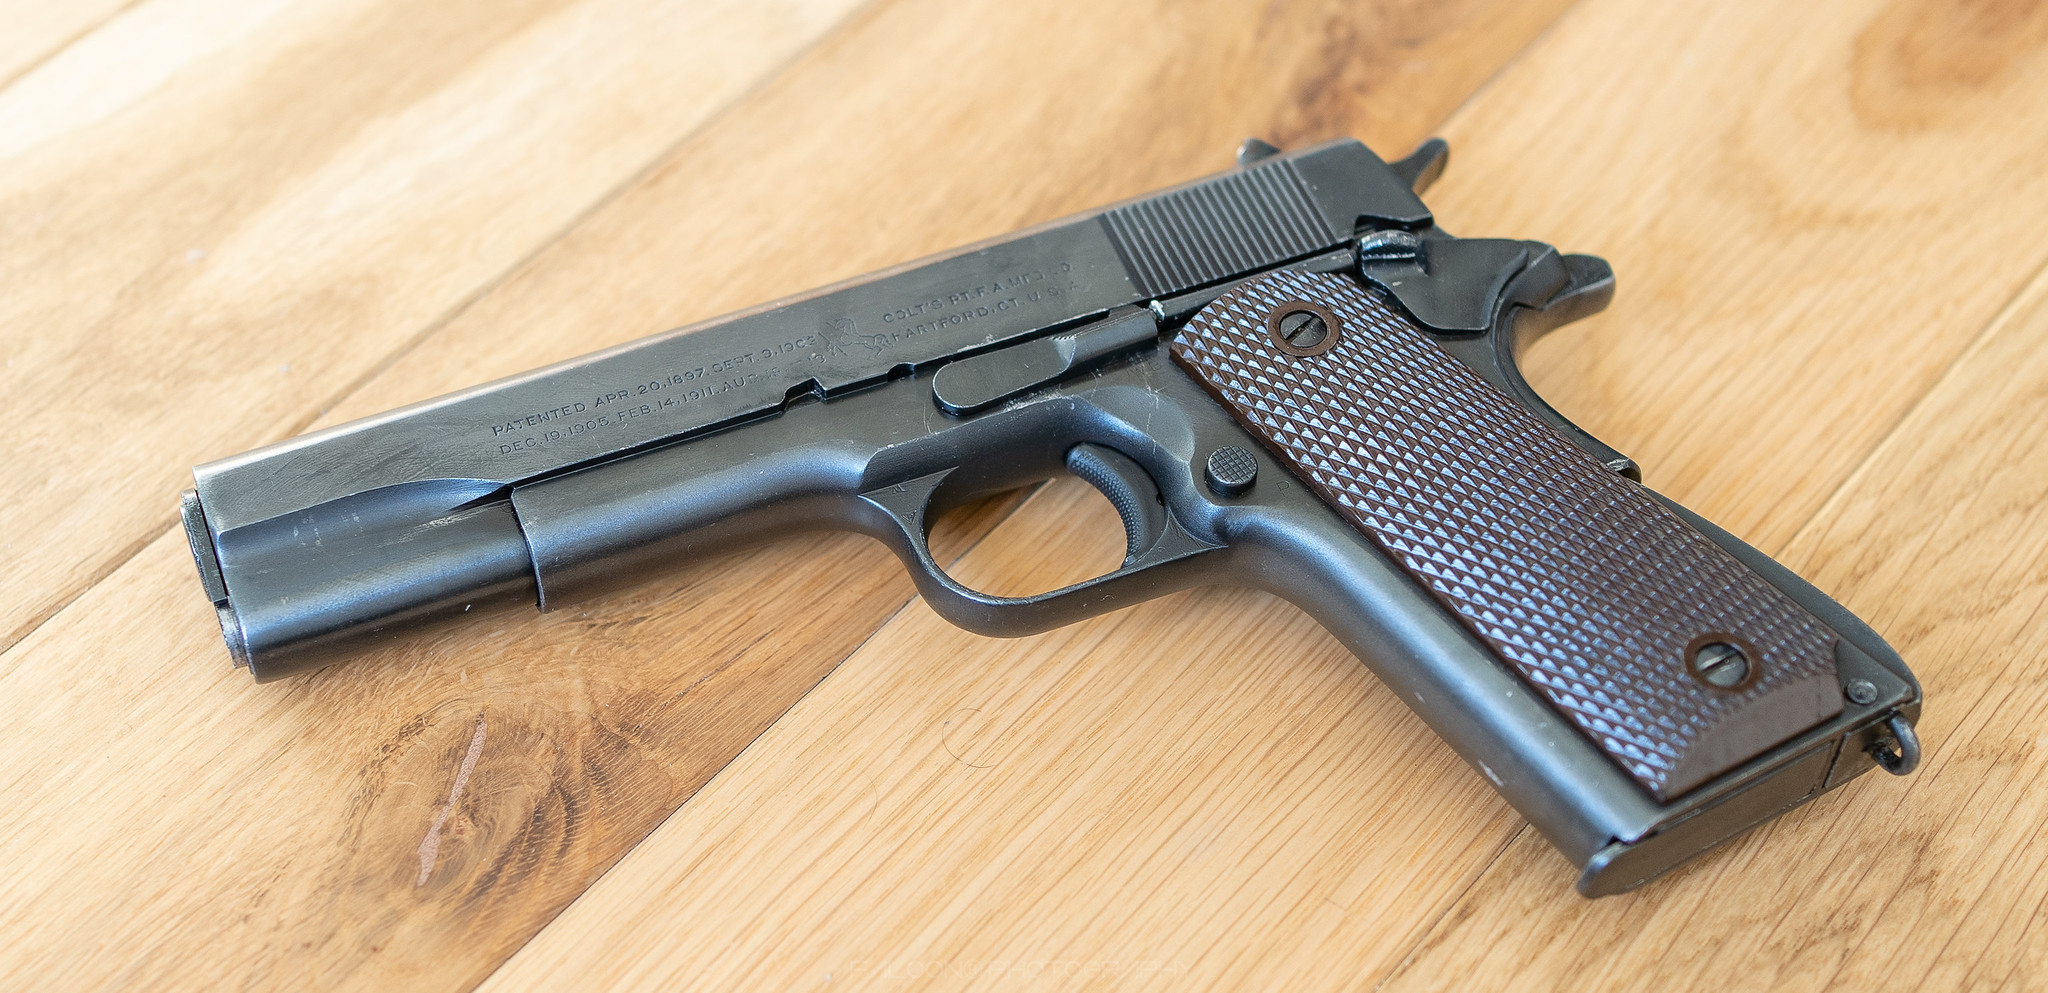gun: (153, 118, 1949, 926)
